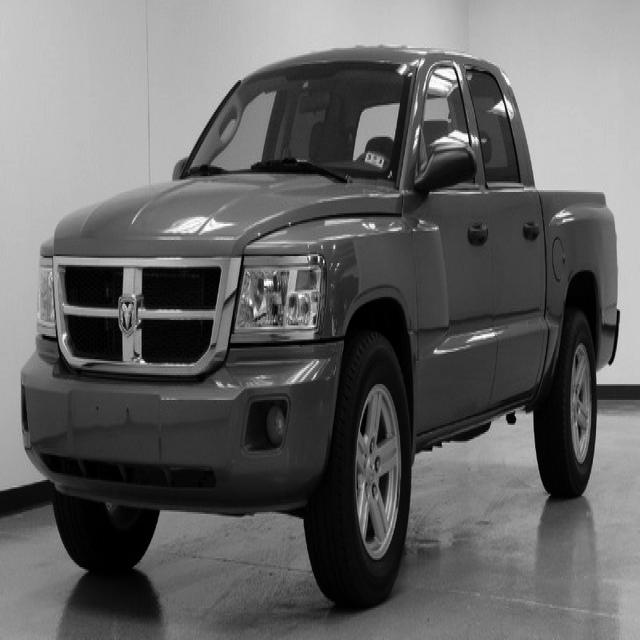car: (19, 42, 620, 610)
